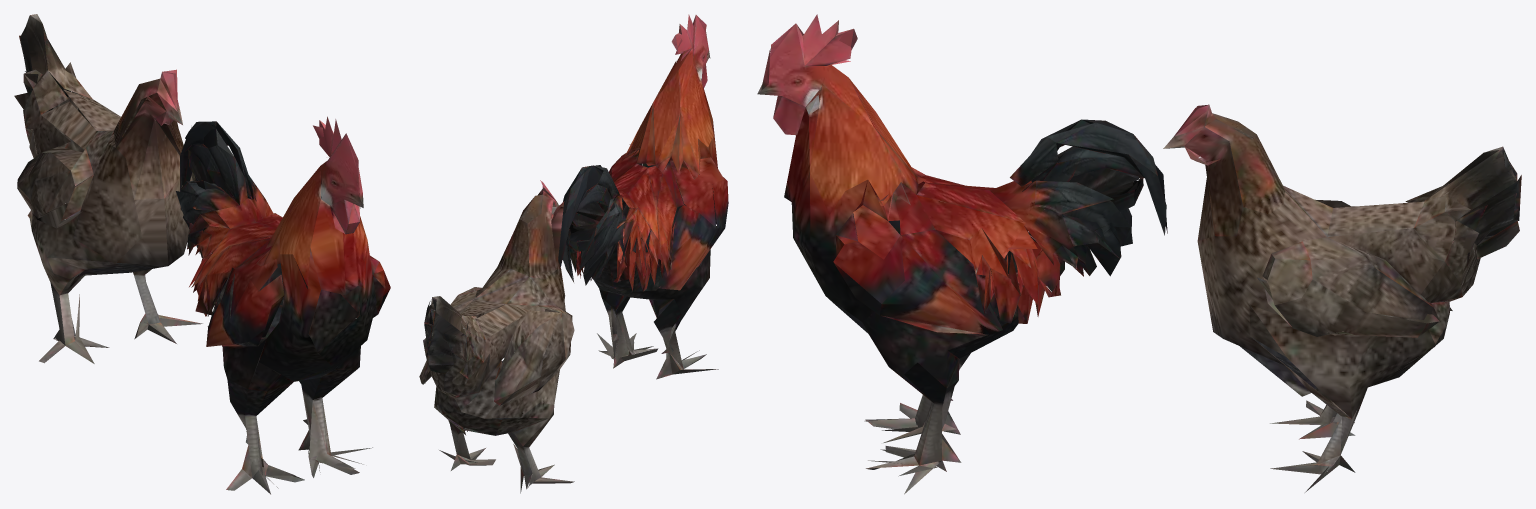
File: chicken.glb
The picture shows the model from 3 angles, left to right: view 1: azimuth 30°, elevation 25°; view 2: azimuth 150°, elevation 25°; view 3: azimuth 270°, elevation 25°; orthographic projection. The views are drawn at different scales.
Parts seen in each view (by area): view 1: output_unwrapped; view 2: output_unwrapped; view 3: output_unwrapped.
Boxes of the visible parts, x1,y1,x2,y2 form: output_unwrapped: (14,14,390,494); output_unwrapped: (419,14,728,493); output_unwrapped: (757,14,1521,494).
Bounding box in the file's own units: 0.2012 × 0.4582 × 0.7177.
1 material, 1 textured.
